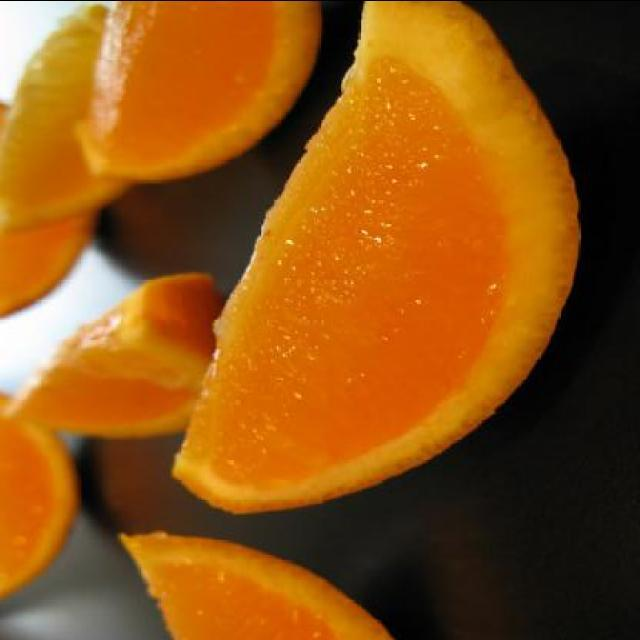Orange: (172, 1, 584, 525), (77, 2, 323, 182), (8, 273, 210, 442), (114, 529, 394, 640), (3, 0, 136, 233), (0, 393, 83, 595), (0, 200, 100, 322)
